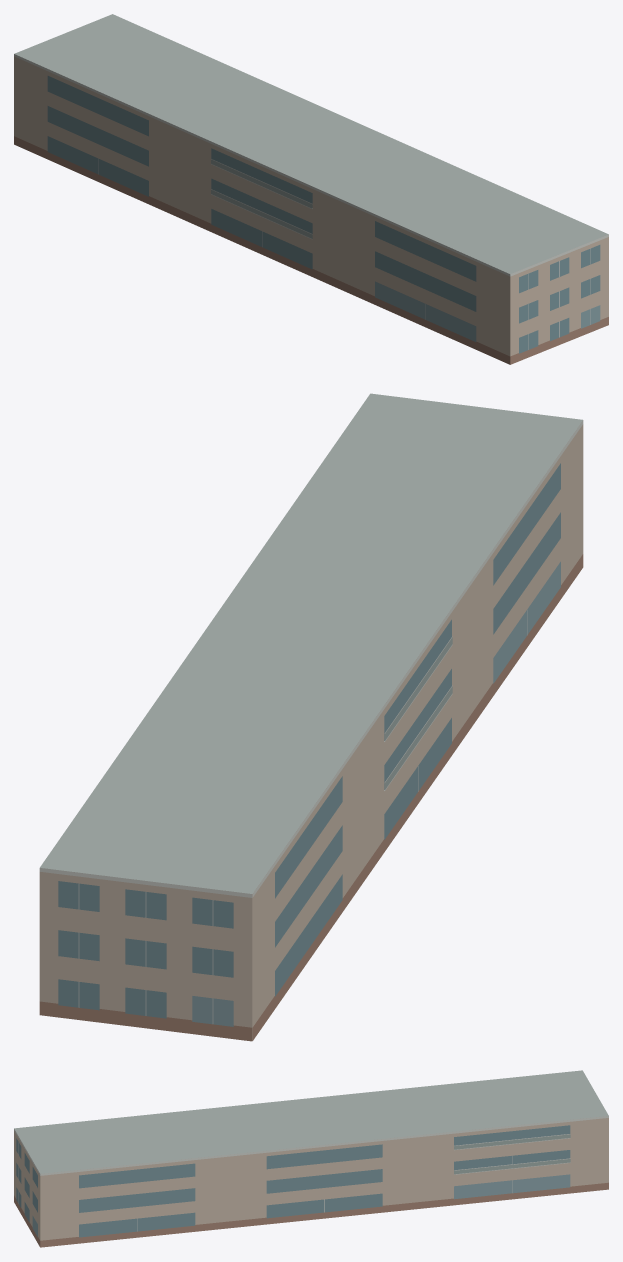
File: survey-upis-32470411.glb
The picture shows the model from 3 angles, top to bottom: view 1: azimuth 30°, elevation 25°; view 2: azimuth 150°, elevation 25°; view 3: azimuth 270°, elevation 25°; orthographic projection. The views are drawn at different scales.
Parts seen in each view (by area): view 1: survey-upis-32470411.tmp; view 2: survey-upis-32470411.tmp; view 3: survey-upis-32470411.tmp.
Boxes of the visible parts, left/top/right/bottom form: survey-upis-32470411.tmp: left=14, top=14, right=608, bottom=364; survey-upis-32470411.tmp: left=39, top=393, right=583, bottom=1041; survey-upis-32470411.tmp: left=14, top=1070, right=608, bottom=1247.
Bounding box in the file's own units: 27.6 × 9.15 × 66.97.
